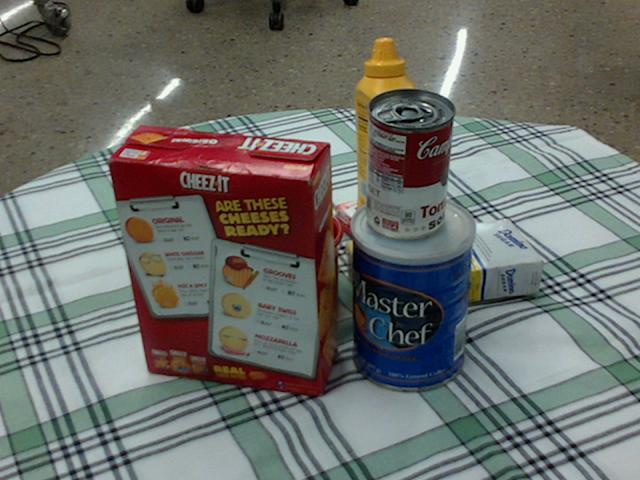cracker_box: (103, 127, 337, 394)
gelatin_box: (334, 185, 436, 255)
master_chef_can: (351, 192, 476, 391)
mug: (243, 207, 342, 323)
mustard_bottle: (354, 39, 419, 239)
potted_meat_can: (157, 225, 251, 319)
sugar_box: (347, 216, 544, 318)
tomato_soup_can: (364, 88, 452, 238)
tuna_fish_can: (161, 193, 251, 268)
